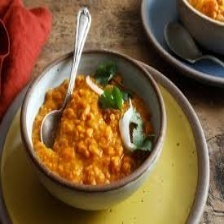dal: (32, 72, 152, 183)
